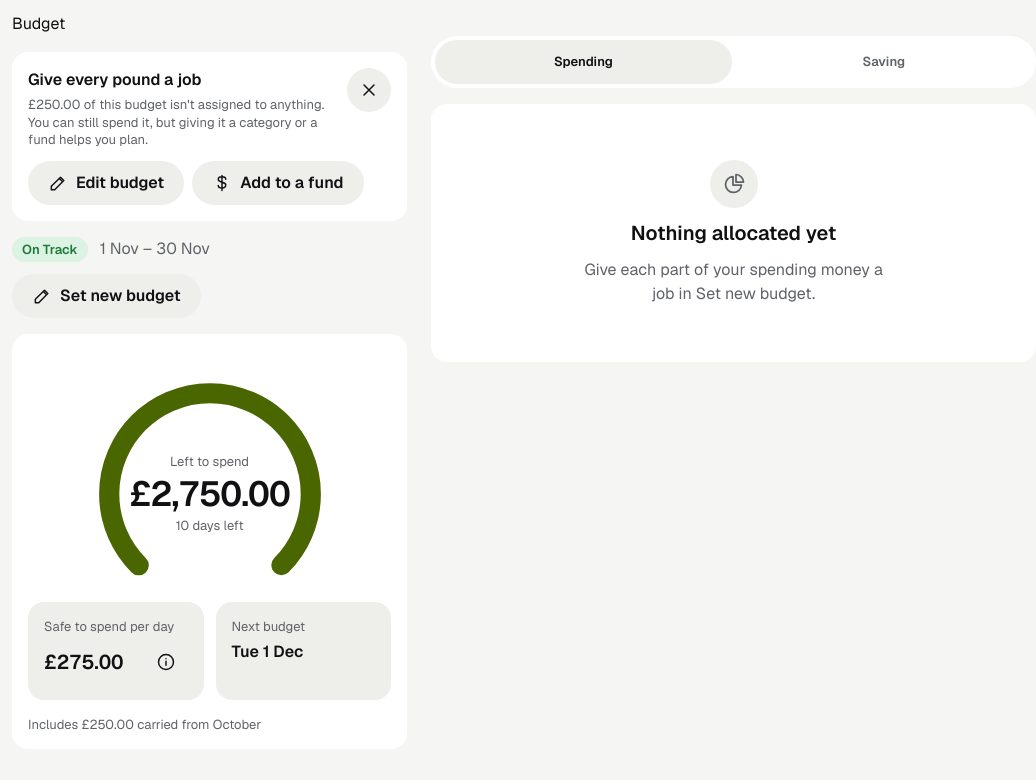
Test: BudgetOverview review states › labels money carried in, and nudges to give unassigned money a job until dismissed
Expected: the text "Includes £250.00 carried from October" is shown, [28,716,261,733]
What coordinates should you click on to do the following:
click the button named "Dismiss"
I would click on:
 (369, 90)
Its box is [347,68,391,112].
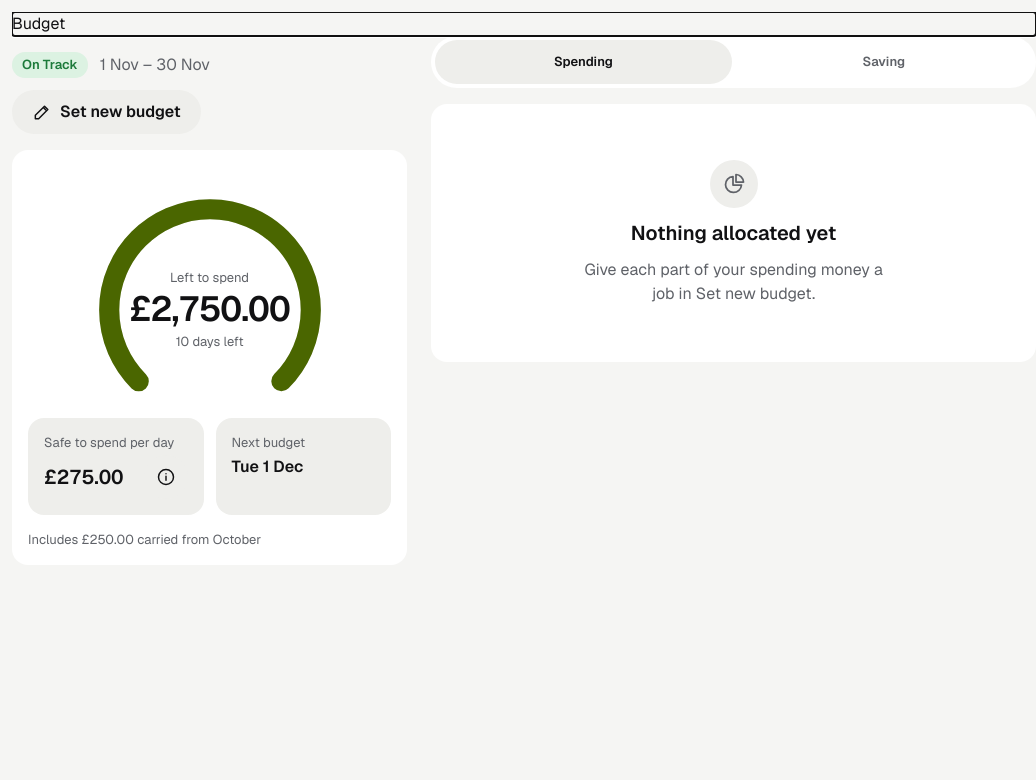
Now the heading "Give every pound a job" is gone
